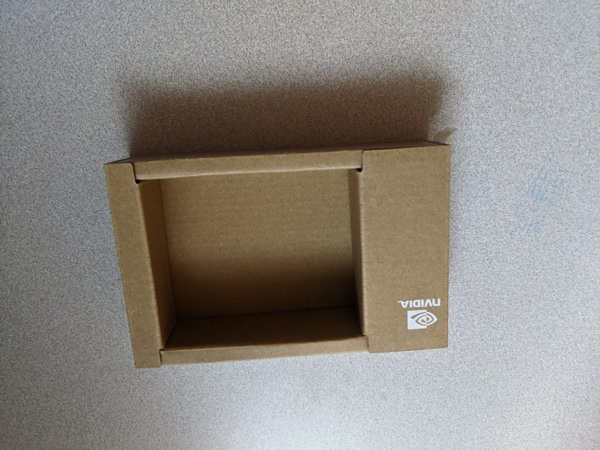cardboard: (85, 123, 473, 387)
